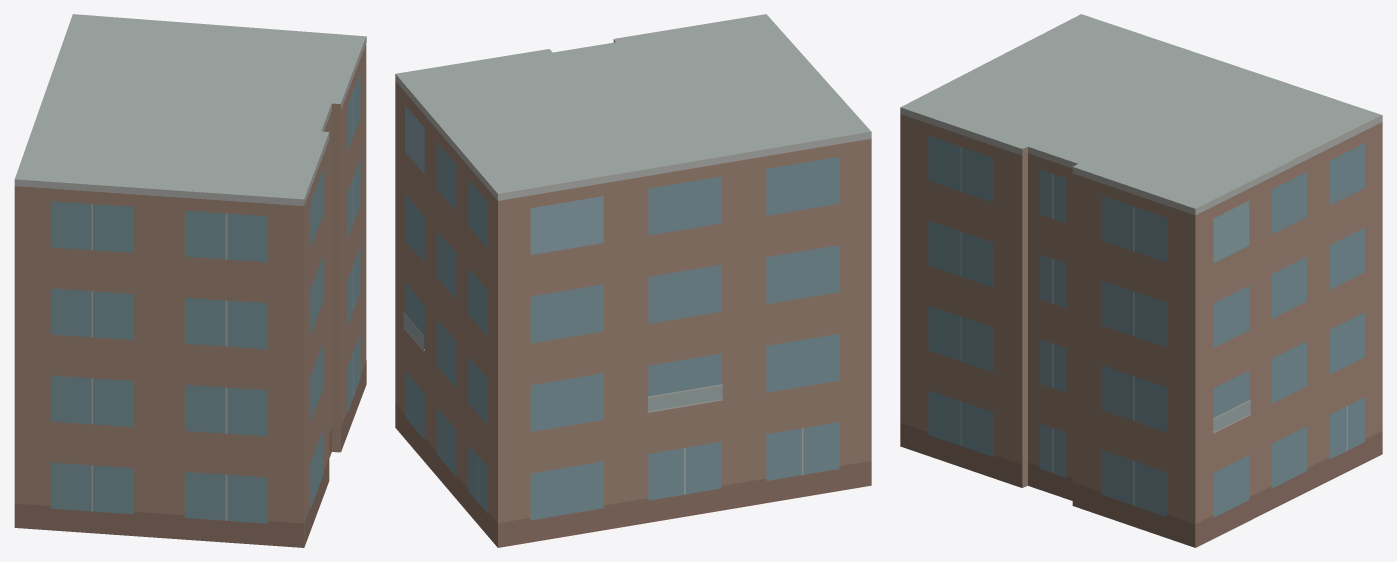
The model's file is survey-upis-32702909.glb.
3 views of the same model, side by side, from view 1: azimuth 30°, elevation 25°; view 2: azimuth 150°, elevation 25°; view 3: azimuth 270°, elevation 25° (orthographic). The views are drawn at different scales.
Visible parts, largest first — view 1: survey-upis-32702909.tmp; view 2: survey-upis-32702909.tmp; view 3: survey-upis-32702909.tmp.
Part boxes in pixels (left/top/right/bottom): survey-upis-32702909.tmp: left=14, top=14, right=366, bottom=547; survey-upis-32702909.tmp: left=395, top=14, right=871, bottom=547; survey-upis-32702909.tmp: left=900, top=14, right=1382, bottom=547.
Bounding box in the file's own units: 15.55 × 12.61 × 16.27.
